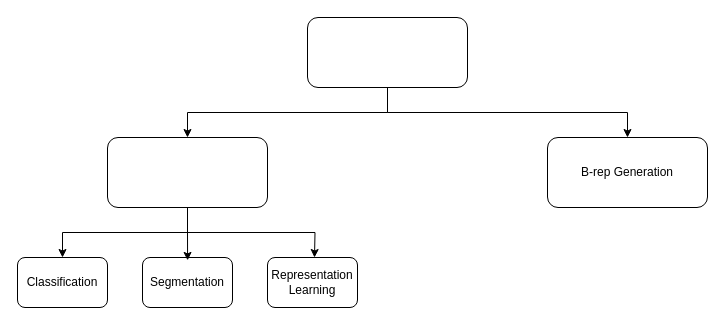
The diagram is 725 pixels wide and 325 high, and some of its shapes have lost their labels. Here are the shapes that lost their labels. From the top down, the centre of each, then its label:
At (387,52): "Deep Learning Methods for B-rep Models".
At (187,172): "B-rep Understanding".
